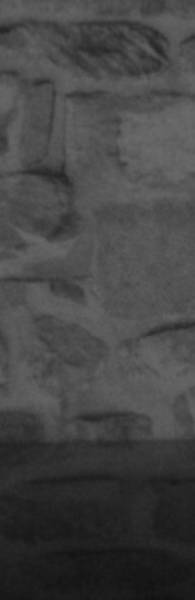water: (0, 442, 195, 600)
